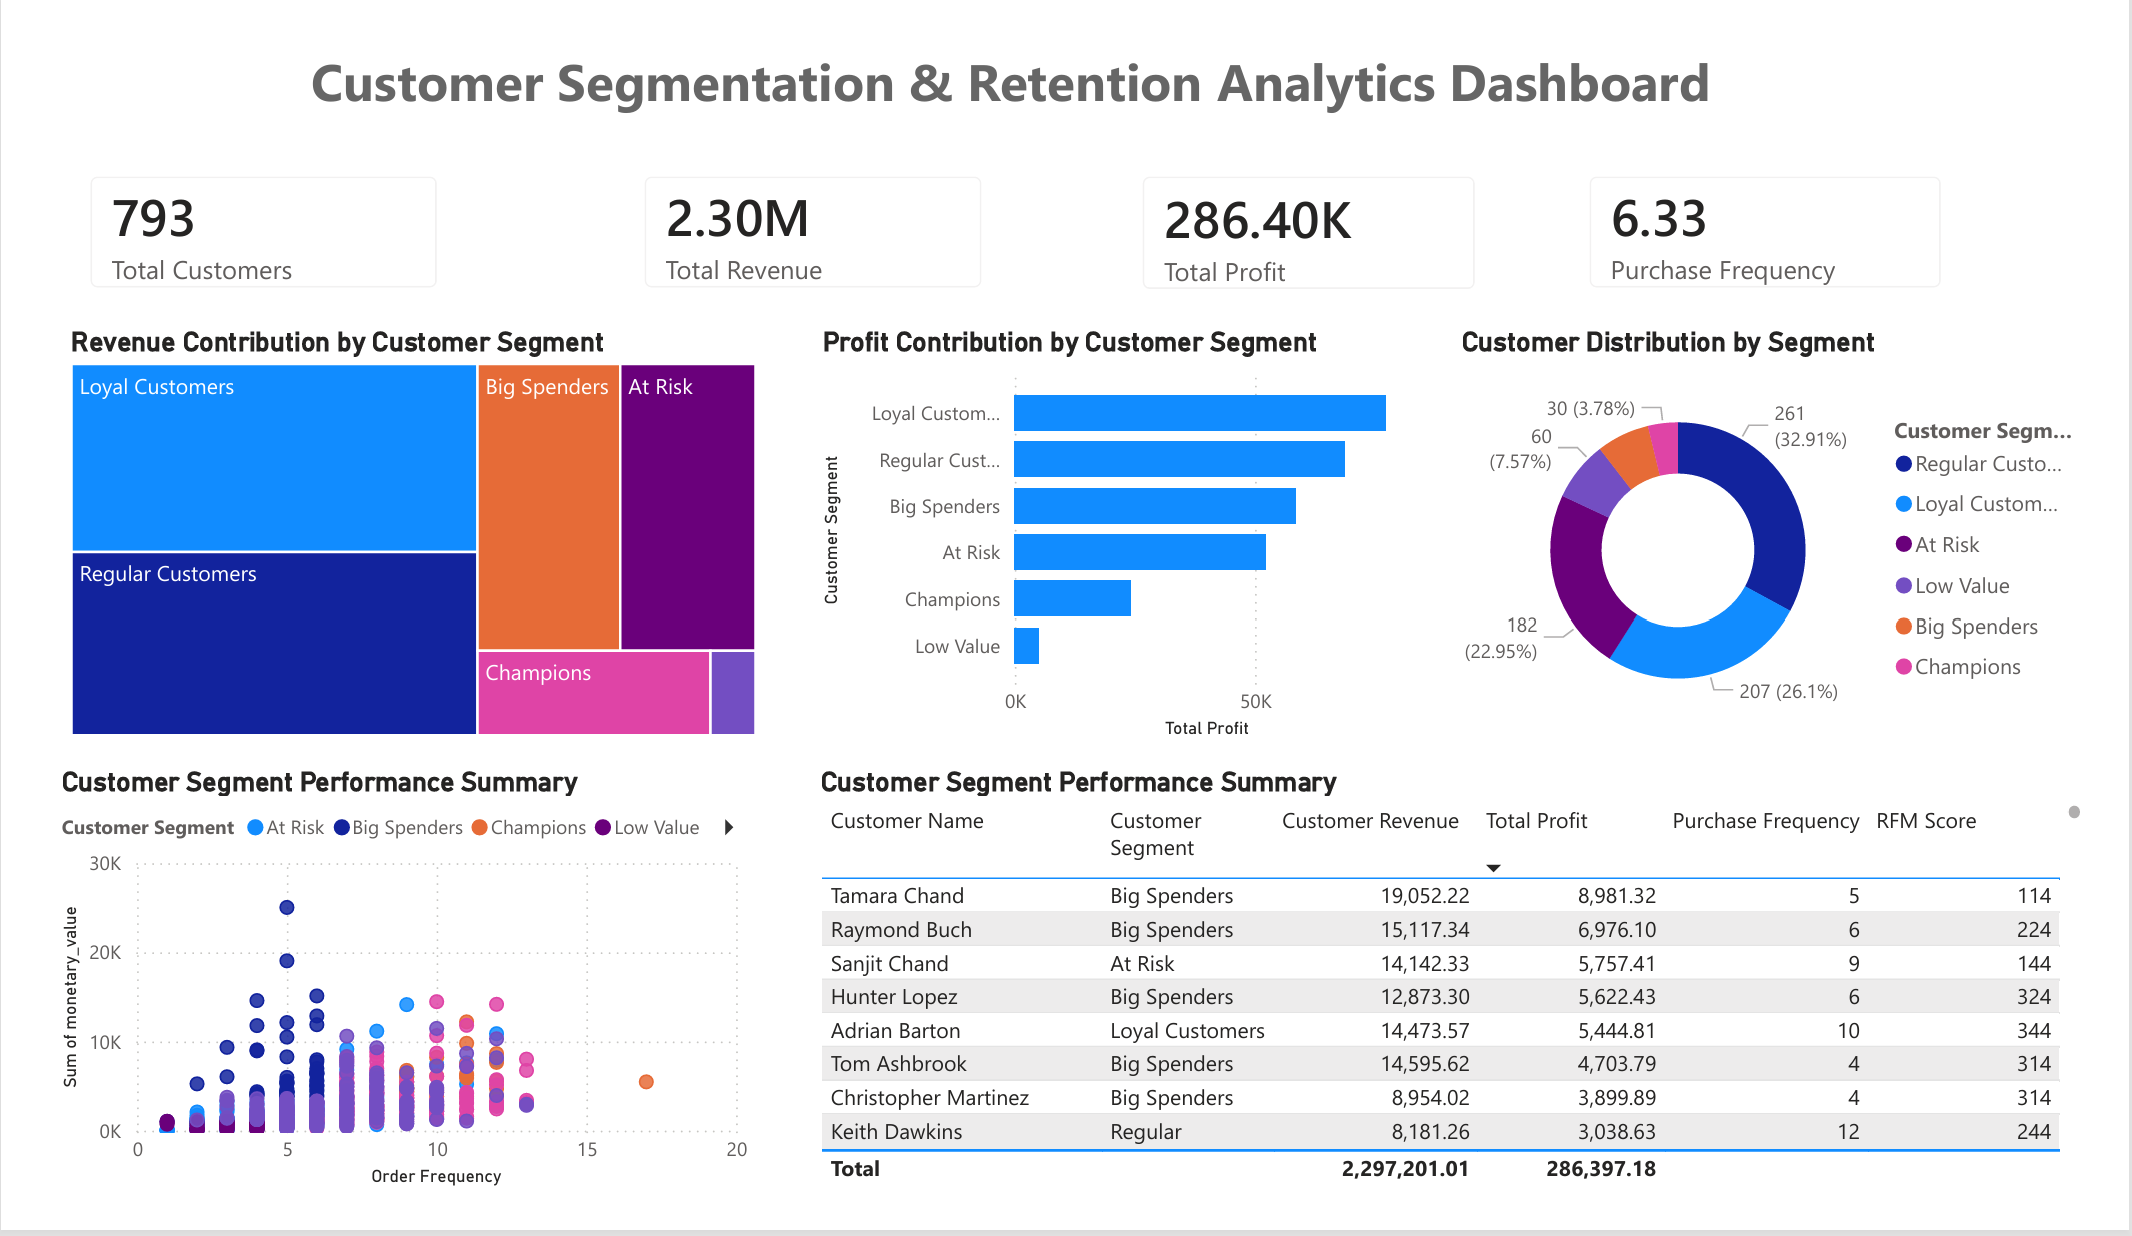

The dashboard page shown, as its layout file describes it:
{"tool":"powerbi","page":{"name":"Customer Analytics Dashboard","canvas":[1280,720],"ordinal":0},"visuals":[{"type":"cardVisual","fields":{"Data":["Sum(customer_segment_summary.customer_count)"]},"box":[15.2,69.8,250.2,103.1],"z":0},{"type":"cardVisual","fields":{"Data":["Sum(customer_segment_summary.total_revenue)"]},"box":[360.9,69.8,244.2,103.1],"z":1000},{"type":"cardVisual","fields":{"Data":["Sum(customer_segment_summary.total_profit)"]},"box":[671.8,69.8,241.1,104.6],"z":2000},{"type":"cardVisual","fields":{"Data":["Avg(customer_segment_summary.avg_frequency)"]},"box":[950.9,69.8,253.3,103.1],"z":3000},{"type":"treemap","title":"Revenue Contribution by Customer Segment","fields":{"Group":["customer_segment_summary.customer_segment"],"Values":["Sum(customer_segment_summary.total_revenue)"]},"box":[15.2,180.5,436.8,259.3],"z":4000},{"type":"clusteredBarChart","title":"Profit Contribution by Customer Segment","fields":{"Category":["customer_segment_summary.customer_segment"],"Y":["Sum(customer_segment_summary.total_profit)"]},"box":[483.8,180.5,380.7,260.9],"z":5000},{"type":"donutChart","title":"Customer Distribution by Segment","fields":{"Category":["customer_segment_summary.customer_segment"],"Y":["Sum(customer_segment_summary.customer_count)"]},"box":[882.7,180.5,397.3,260.9],"z":6000},{"type":"scatterChart","title":"Customer Segment Performance Summary","fields":{"X":["Sum(customer_rfm_output.frequency_orders)"],"Y":["Sum(customer_rfm_output.monetary_value)"],"Category":["customer_rfm_output.customer_name"],"Series":["customer_rfm_output.customer_segment"]},"box":[9.5,454.4,437.4,267],"z":7000},{"type":"tableEx","title":"Customer Segment Performance Summary","fields":{"Values":["customer_rfm_output.customer_name","customer_rfm_output.customer_segment","Sum(customer_rfm_output.monetary_value)","Sum(customer_rfm_output.total_profit)","customer_rfm_output.frequency_orders","customer_rfm_output.rfm_score"]},"box":[482.8,454.4,797.2,265.1],"z":8000},{"type":"textbox","box":[37.9,0,1137.4,69.8],"z":8001}]}

Visuals, with their boxes in screenshot pixels (x1, y1, x2, y2), scaled from the page's 1280x720 canvas onto the 2132x1236 screenshot:
cardVisual - Sum(customer_segment_summary.customer_count): l=25, t=120, r=442, b=297
cardVisual - Sum(customer_segment_summary.total_revenue): l=601, t=120, r=1008, b=297
cardVisual - Sum(customer_segment_summary.total_profit): l=1119, t=120, r=1521, b=299
cardVisual - Avg(customer_segment_summary.avg_frequency): l=1584, t=120, r=2006, b=297
"Revenue Contribution by Customer Segment" treemap: l=25, t=310, r=753, b=755
"Profit Contribution by Customer Segment" clusteredBarChart: l=806, t=310, r=1440, b=758
"Customer Distribution by Segment" donutChart: l=1470, t=310, r=2131, b=758
"Customer Segment Performance Summary" scatterChart: l=16, t=780, r=744, b=1235
"Customer Segment Performance Summary" tableEx: l=804, t=780, r=2131, b=1235
textbox: l=63, t=0, r=1958, b=120
